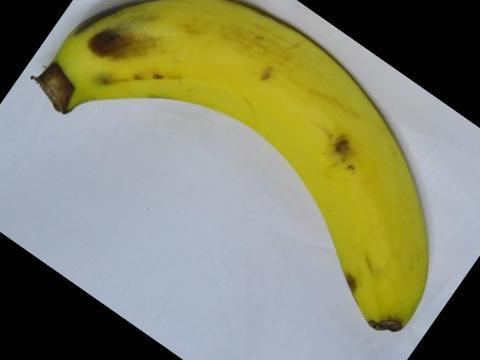freshripe: (22, 0, 442, 341)
